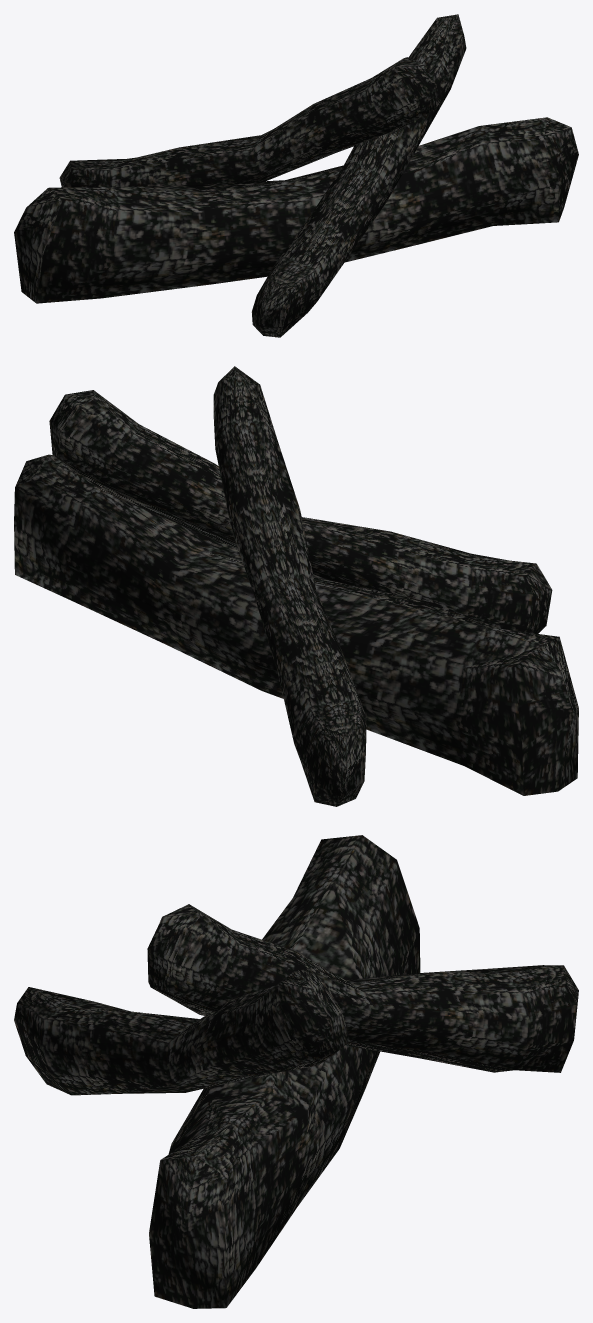
File: INST_SM_BURNTWOODC.fbx
3 renders of one model, top to bottom at view 1: azimuth 30°, elevation 25°; view 2: azimuth 150°, elevation 25°; view 3: azimuth 270°, elevation 25°, orthographic. The views are drawn at different scales.
Visible parts, largest first — view 1: INST_SM_BURNTWOODC; view 2: INST_SM_BURNTWOODC; view 3: INST_SM_BURNTWOODC.
Boxes of the visible parts, box(x1,y1,x2,y2) form: INST_SM_BURNTWOODC: box(14, 14, 578, 337); INST_SM_BURNTWOODC: box(14, 366, 578, 806); INST_SM_BURNTWOODC: box(14, 835, 578, 1308).
Size of the model in its own units: 124066 by 48454 by 80704.
1 material, 1 textured.
